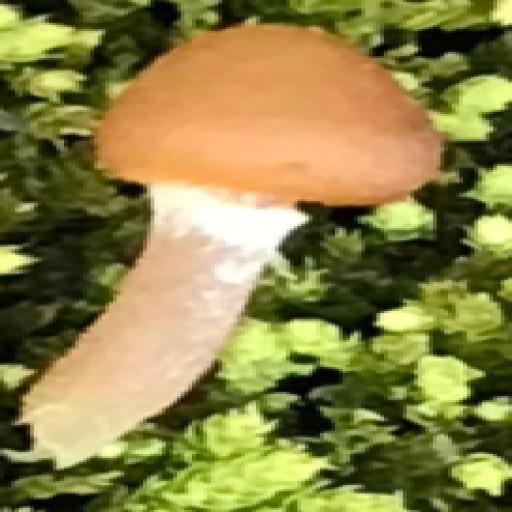mushroom: (77, 27, 444, 371)
